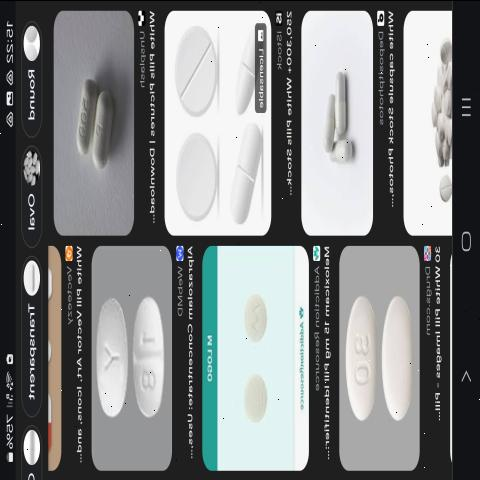Pill: (374, 286, 420, 452), (131, 260, 169, 454), (88, 283, 130, 444), (225, 126, 274, 244), (340, 289, 379, 437), (171, 122, 220, 231), (170, 22, 222, 118), (237, 364, 276, 454), (62, 73, 98, 159), (236, 285, 276, 349), (92, 98, 118, 186), (335, 66, 353, 162)
